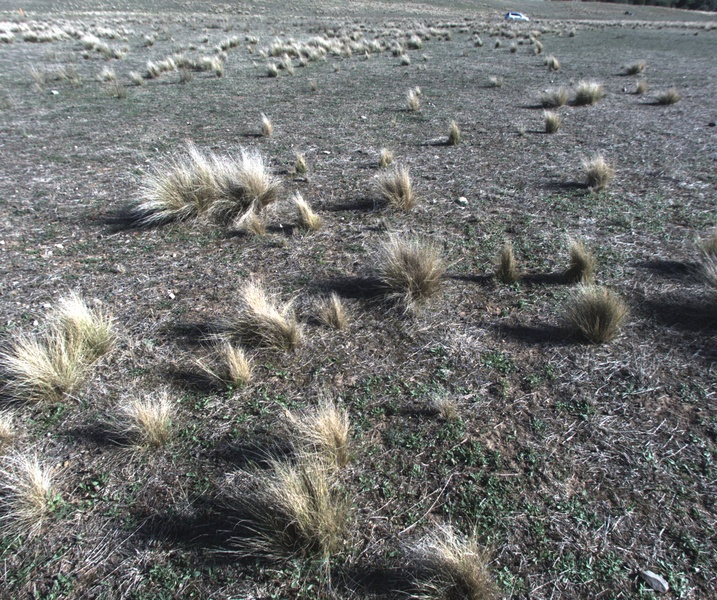st: (253, 459, 364, 563), (407, 517, 515, 600), (277, 391, 362, 464), (148, 153, 230, 227), (3, 331, 81, 405), (375, 240, 449, 316), (1, 448, 62, 540), (45, 289, 117, 366), (564, 280, 629, 348), (240, 286, 302, 356), (120, 385, 178, 449), (227, 150, 285, 208), (361, 168, 413, 214), (201, 339, 246, 386), (561, 243, 597, 288), (309, 282, 341, 332), (291, 193, 326, 232), (581, 153, 611, 198), (236, 209, 267, 244), (495, 244, 522, 282), (425, 393, 458, 423), (539, 85, 571, 113), (653, 83, 683, 111), (572, 81, 601, 104), (536, 109, 561, 134), (407, 88, 426, 117), (442, 120, 461, 146), (256, 113, 272, 143), (621, 59, 651, 75), (138, 60, 161, 79), (97, 63, 117, 82), (630, 78, 648, 97), (125, 72, 146, 87), (379, 143, 392, 167), (485, 73, 506, 86), (263, 60, 277, 79), (209, 64, 226, 79), (296, 153, 309, 172), (546, 57, 561, 72), (406, 36, 422, 50), (398, 57, 416, 69), (470, 34, 484, 49), (277, 50, 288, 68), (490, 37, 502, 53), (506, 38, 517, 55)
